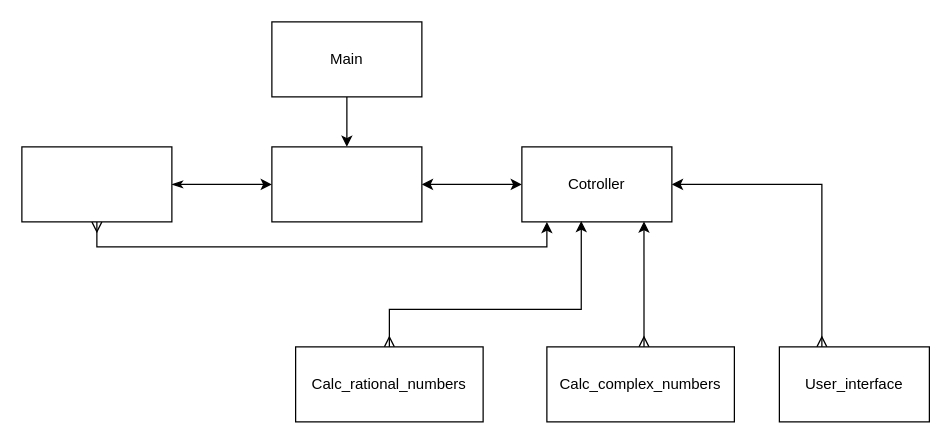
The diagram is 951 pixels wide and 444 high, and some of its shapes have lost their labels. The centre of each missing label's shape, as x and y in pixels:
"Loger" goes at point (96, 184).
"Menu" goes at point (346, 184).
